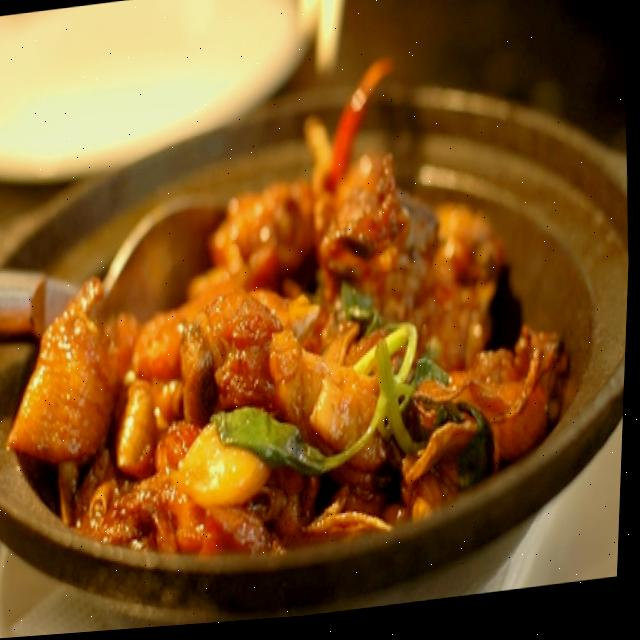鸡肉料理 含炸鸡: (0, 19, 638, 632)
